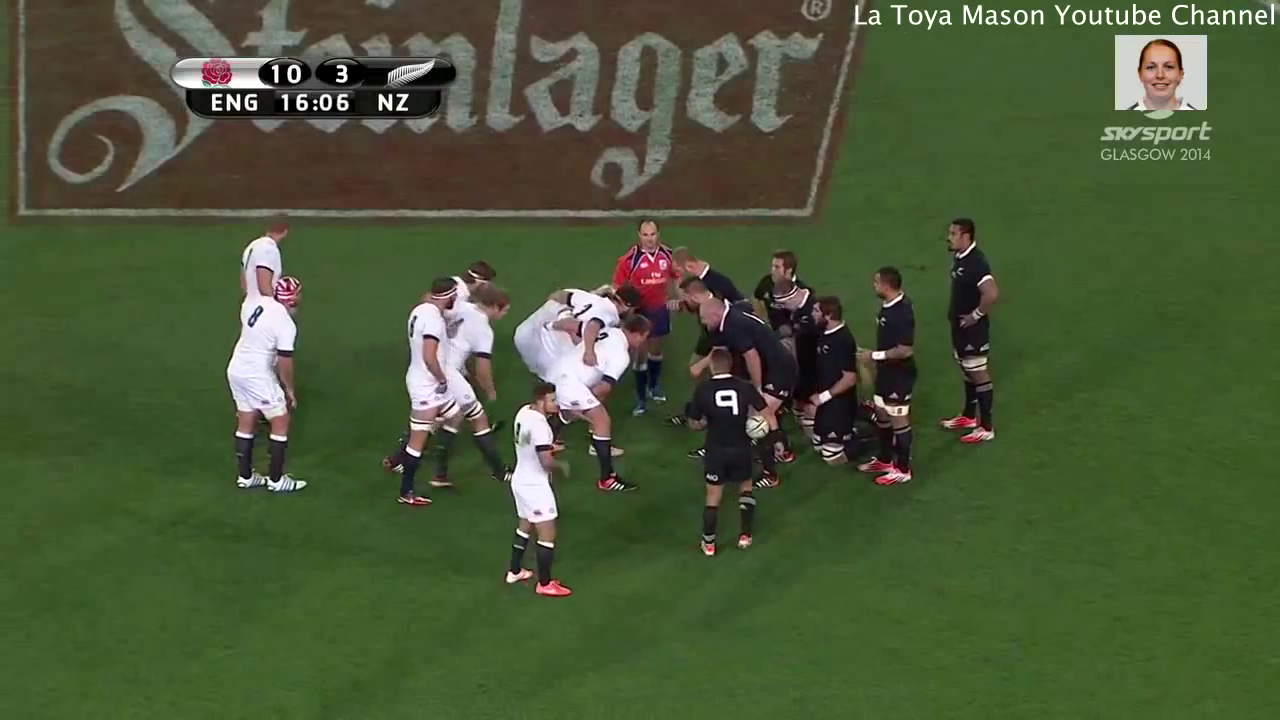player: (551, 313, 657, 500), (225, 275, 312, 502), (391, 273, 465, 509), (933, 212, 1002, 453), (687, 348, 763, 556), (502, 380, 573, 600), (437, 285, 513, 485), (856, 265, 917, 492), (801, 294, 868, 483), (513, 284, 642, 380), (602, 214, 679, 356), (697, 293, 793, 403), (748, 248, 817, 364), (241, 209, 296, 310), (668, 242, 741, 302), (447, 253, 501, 289)
